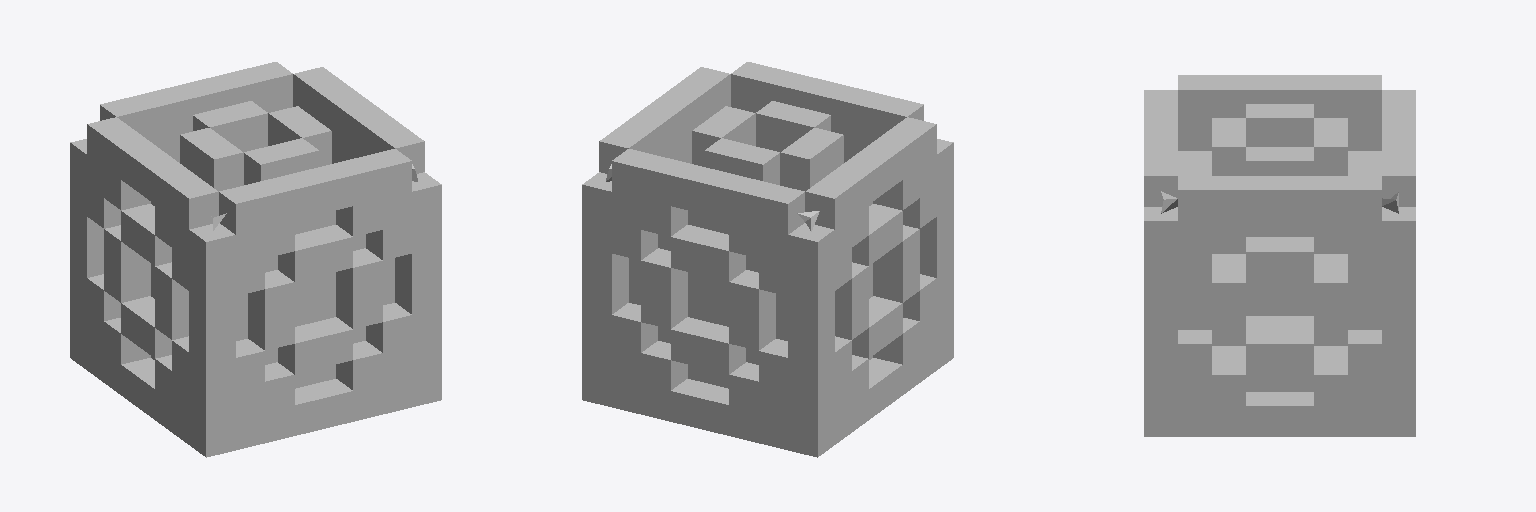
Rendered from ColdDistillator.obj.
The picture shows the model from 3 angles: view 1: azimuth 30°, elevation 25°; view 2: azimuth 150°, elevation 25°; view 3: azimuth 270°, elevation 25°; orthographic projection.
Parts seen in each view (by area): view 1: pCube1; view 2: pCube1; view 3: pCube1.
Boxes of the visible parts, x1,y1,x2,y2 form: pCube1: [70, 62, 441, 457]; pCube1: [582, 62, 953, 457]; pCube1: [1144, 75, 1415, 436].
Bounding box in the file's own units: 1 × 1 × 1.